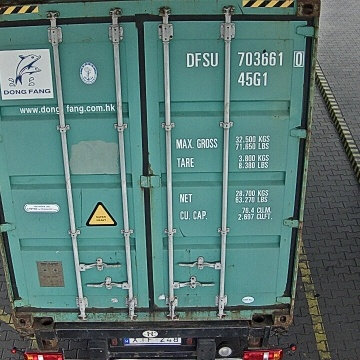serial_id: (187, 51, 304, 66)
